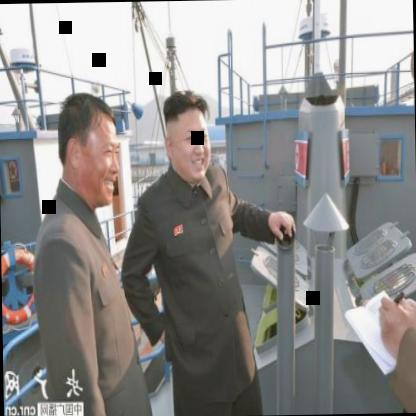head: (53, 85, 121, 206), (159, 89, 212, 183)
